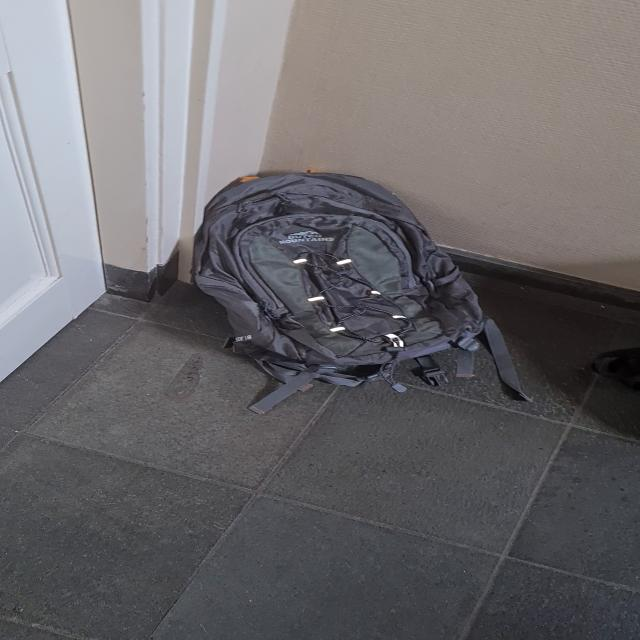backpack: (195, 166, 484, 388)
